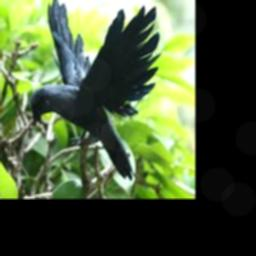Crow: (30, 0, 160, 181)
